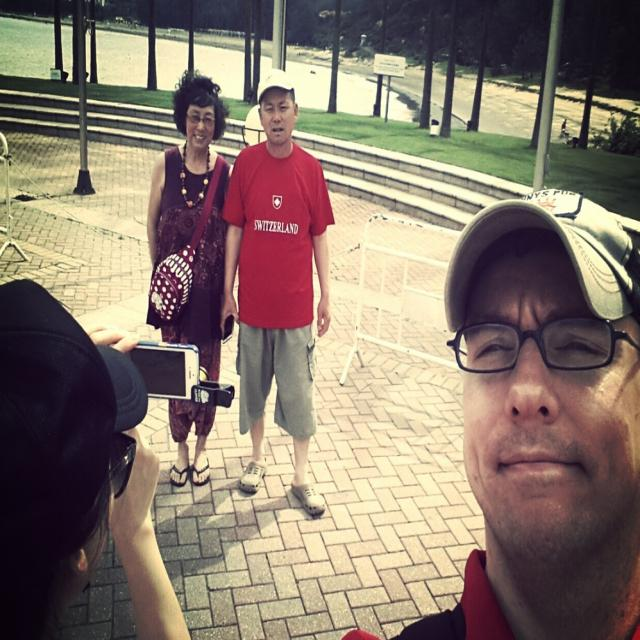Glasses: (452, 312, 631, 398), (186, 112, 216, 120)
